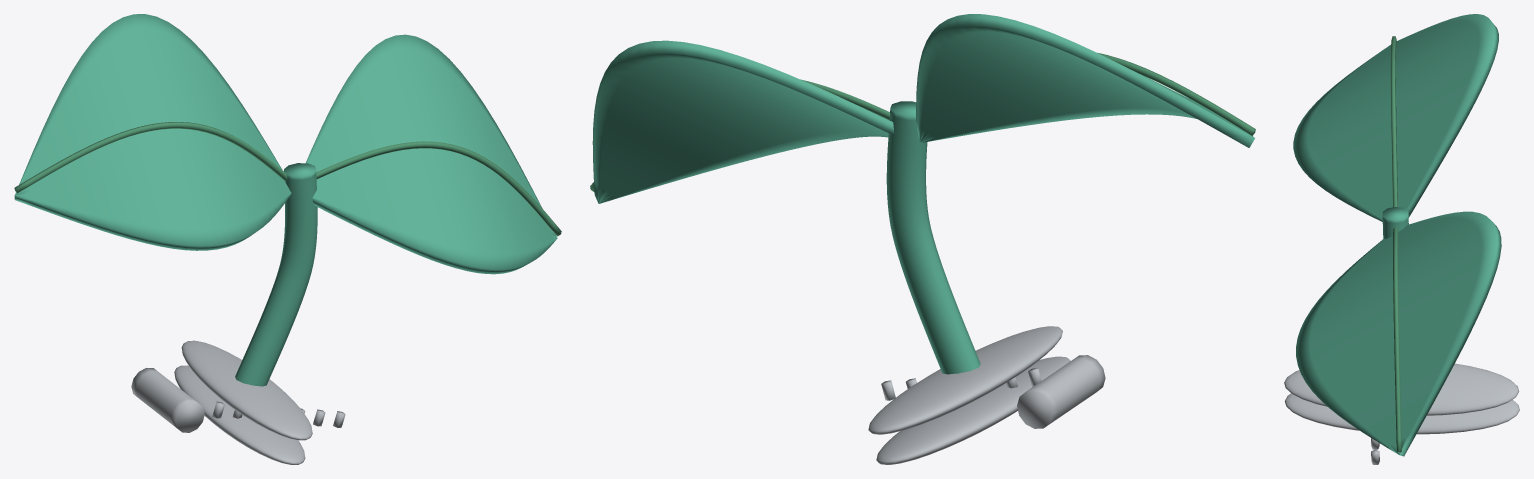
Rendered from Feminine-side-sweep-pashmina249-sprout.glb.
3 views of the same model, side by side, from view 1: azimuth 30°, elevation 25°; view 2: azimuth 150°, elevation 25°; view 3: azimuth 270°, elevation 25° (orthographic). The views are drawn at different scales.
Parts seen in each view (by area): view 1: 226 extra / Accessory / mint226, 226 extra / Sprout / clip silver235, 226 extra / Sprout / leaf vein235; view 2: 226 extra / Accessory / mint226, 226 extra / Sprout / clip silver235, 226 extra / Sprout / leaf vein235; view 3: 226 extra / Accessory / mint226, 226 extra / Sprout / clip silver235, 226 extra / Sprout / leaf vein235.
Boxes of the visible parts, bbox=[...] form: 226 extra / Accessory / mint226: bbox=[14, 14, 557, 386]; 226 extra / Sprout / clip silver235: bbox=[131, 340, 345, 464]; 226 extra / Sprout / leaf vein235: bbox=[14, 122, 561, 236]; 226 extra / Accessory / mint226: bbox=[592, 14, 1254, 374]; 226 extra / Sprout / clip silver235: bbox=[868, 326, 1105, 464]; 226 extra / Sprout / leaf vein235: bbox=[590, 52, 1255, 191]; 226 extra / Accessory / mint226: bbox=[1293, 14, 1501, 456]; 226 extra / Sprout / clip silver235: bbox=[1284, 363, 1519, 464]; 226 extra / Sprout / leaf vein235: bbox=[1390, 36, 1401, 452].
Size of the model in its own units: 0.2595 by 0.1812 by 0.1039.
